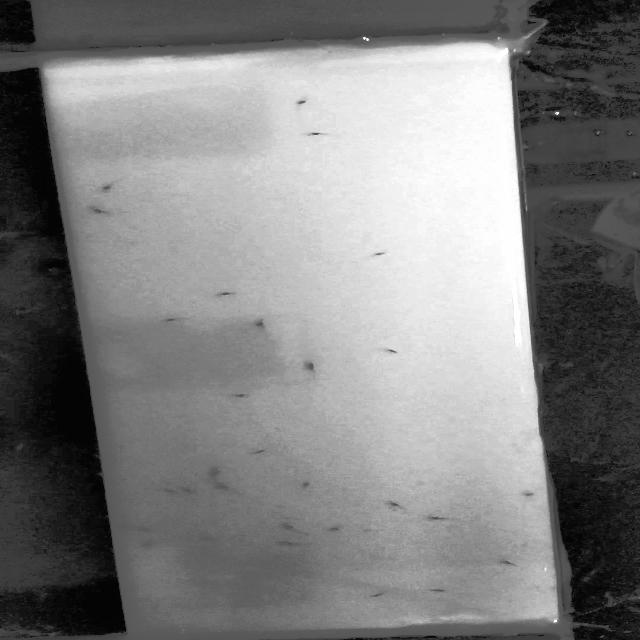shrimp: (97, 176, 133, 193), (494, 555, 526, 571), (364, 584, 394, 600), (278, 518, 308, 534), (302, 359, 326, 377), (220, 388, 259, 399), (362, 246, 397, 258), (306, 127, 340, 139), (293, 95, 319, 110), (85, 203, 113, 216), (424, 586, 458, 596), (384, 498, 412, 510), (268, 539, 324, 545), (246, 446, 276, 456), (253, 318, 274, 332), (433, 515, 465, 524), (195, 533, 223, 542), (327, 522, 352, 532), (139, 540, 168, 548), (111, 520, 128, 533), (213, 482, 233, 493), (293, 481, 315, 491), (178, 485, 205, 493), (206, 468, 227, 478), (521, 490, 541, 500), (384, 348, 406, 356), (216, 290, 237, 298), (162, 316, 184, 322), (162, 486, 178, 494), (136, 525, 155, 531)
